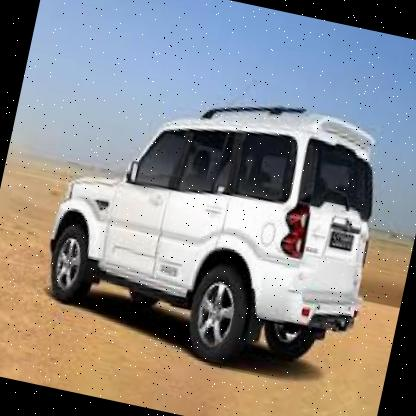car: (18, 52, 405, 398)
